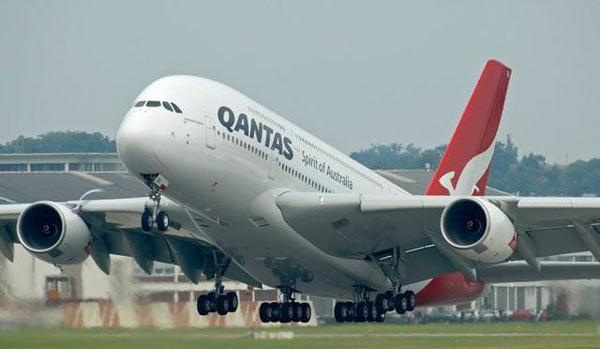airplane: (5, 59, 600, 325)
